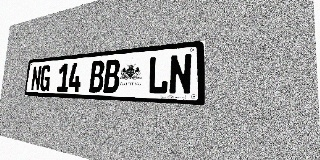1: (57, 63, 70, 92)
4: (68, 62, 82, 92)
B: (103, 59, 121, 93), (89, 60, 105, 93)
G: (39, 65, 51, 91)
L: (147, 55, 169, 95)
N: (168, 53, 192, 95), (31, 65, 42, 91)
